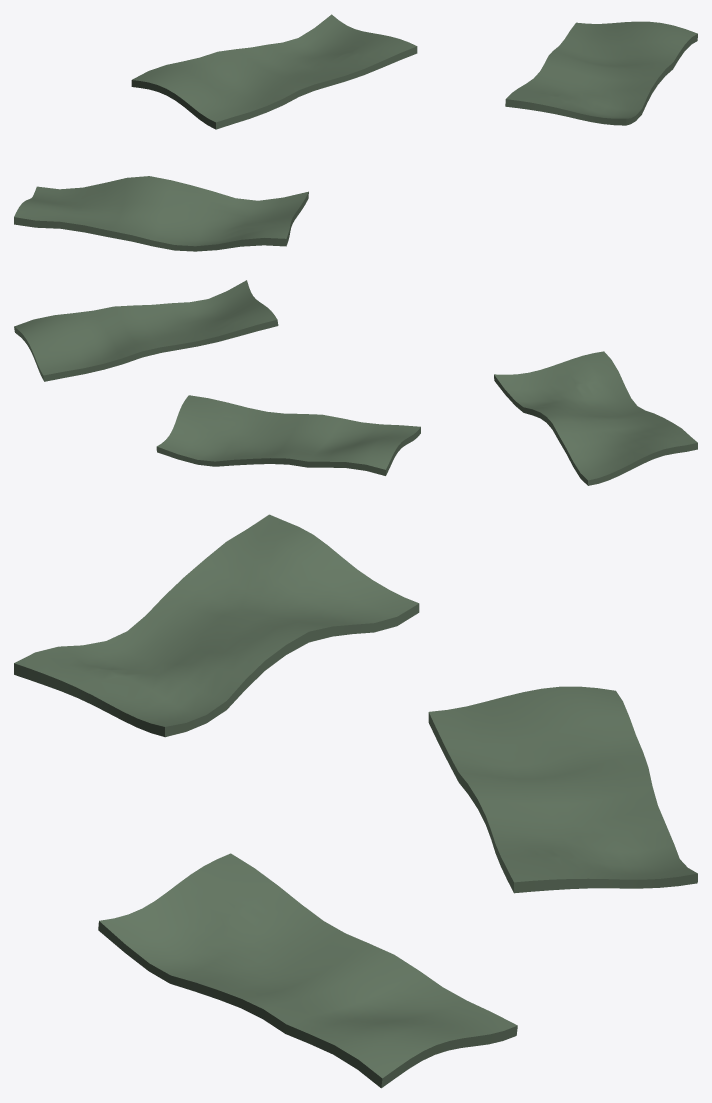
Rendered from 3DGAME_Scattered_Money_Color.fbx.
The picture shows the model from 3 angles, top to bottom: view 1: azimuth 30°, elevation 25°; view 2: azimuth 150°, elevation 25°; view 3: azimuth 270°, elevation 25°; orthographic projection. The views are drawn at different scales.
Parts seen in each view (by area): view 1: pCube4; view 2: pCube4; view 3: pCube4.
Part boxes in pixels (bbox=[...]): pCube4: bbox=[14, 14, 697, 251]; pCube4: bbox=[14, 280, 697, 485]; pCube4: bbox=[14, 514, 697, 1088].
Bounding box in the file's own units: 0.4578 × 0.0251 × 0.2479.
